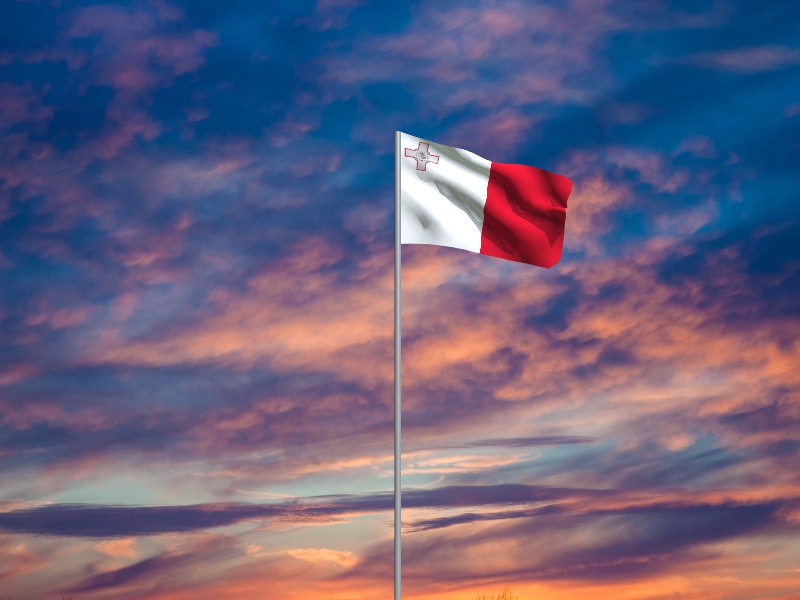mt: (402, 133, 574, 270)
